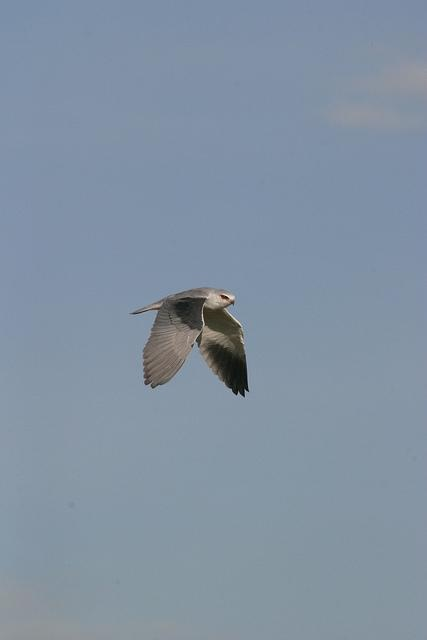bird: (118, 283, 253, 402)
